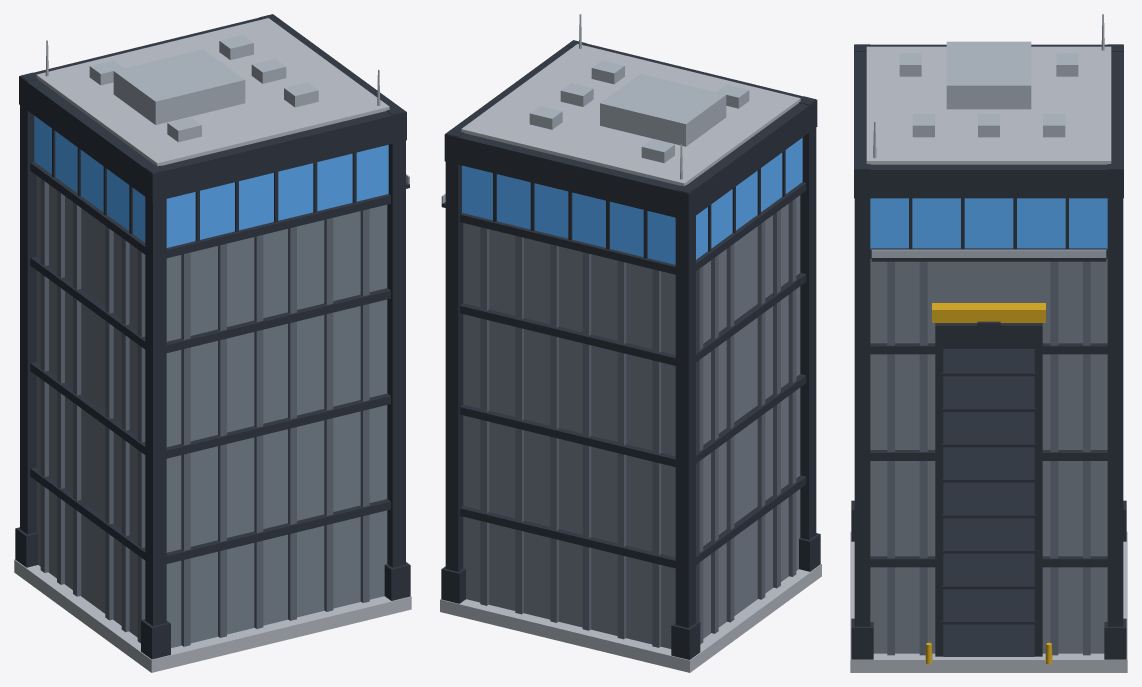
Rendered from starbase_megabay.glb.
The picture shows the model from 3 angles, left to right: view 1: azimuth 30°, elevation 25°; view 2: azimuth 150°, elevation 25°; view 3: azimuth 270°, elevation 25°; orthographic projection. The views are drawn at different scales.
Parts seen in each view (by area): view 1: StarbaseMegaBay_GalvanizedCladding, StarbaseMegaBay_StructuralSteel, StarbaseMegaBay_CladdingRib, StarbaseMegaBay_ConcreteFoundation, StarbaseMegaBay_PenthouseGlass, StarbaseMegaBay_RooftopMetal; view 2: StarbaseMegaBay_GalvanizedCladding, StarbaseMegaBay_StructuralSteel, StarbaseMegaBay_CladdingRib, StarbaseMegaBay_ConcreteFoundation, StarbaseMegaBay_PenthouseGlass, StarbaseMegaBay_RooftopMetal; view 3: StarbaseMegaBay_StructuralSteel, StarbaseMegaBay_GalvanizedCladding, StarbaseMegaBay_ConcreteFoundation, StarbaseMegaBay_BayDoorShutter, StarbaseMegaBay_CladdingRib, StarbaseMegaBay_PenthouseGlass, StarbaseMegaBay_RooftopMetal, StarbaseMegaBay_GantryCraneYellow.
Part boxes in pixels (box(x1,y1,x2,y2)): StarbaseMegaBay_GalvanizedCladding: box(36, 175, 387, 647); StarbaseMegaBay_StructuralSteel: box(15, 14, 410, 659); StarbaseMegaBay_CladdingRib: box(40, 178, 369, 646); StarbaseMegaBay_ConcreteFoundation: box(14, 18, 411, 672); StarbaseMegaBay_PenthouseGlass: box(34, 116, 388, 247); StarbaseMegaBay_RooftopMetal: box(45, 35, 409, 184); StarbaseMegaBay_GalvanizedCladding: box(463, 195, 800, 648); StarbaseMegaBay_StructuralSteel: box(441, 40, 820, 659); StarbaseMegaBay_CladdingRib: box(480, 198, 796, 647); StarbaseMegaBay_ConcreteFoundation: box(440, 44, 821, 672); StarbaseMegaBay_PenthouseGlass: box(462, 138, 802, 264); StarbaseMegaBay_RooftopMetal: box(441, 14, 749, 203); StarbaseMegaBay_StructuralSteel: box(851, 44, 1126, 659); StarbaseMegaBay_GalvanizedCladding: box(870, 258, 1107, 653); StarbaseMegaBay_ConcreteFoundation: box(850, 46, 1127, 672); StarbaseMegaBay_BayDoorShutter: box(943, 349, 1034, 656); StarbaseMegaBay_CladdingRib: box(887, 261, 1090, 655); StarbaseMegaBay_PenthouseGlass: box(870, 198, 1107, 248); StarbaseMegaBay_RooftopMetal: box(871, 14, 1106, 257); StarbaseMegaBay_GantryCraneYellow: box(925, 303, 1052, 664).
Bounding box in the file's own units: 48.08 × 91.45 × 42.5.
